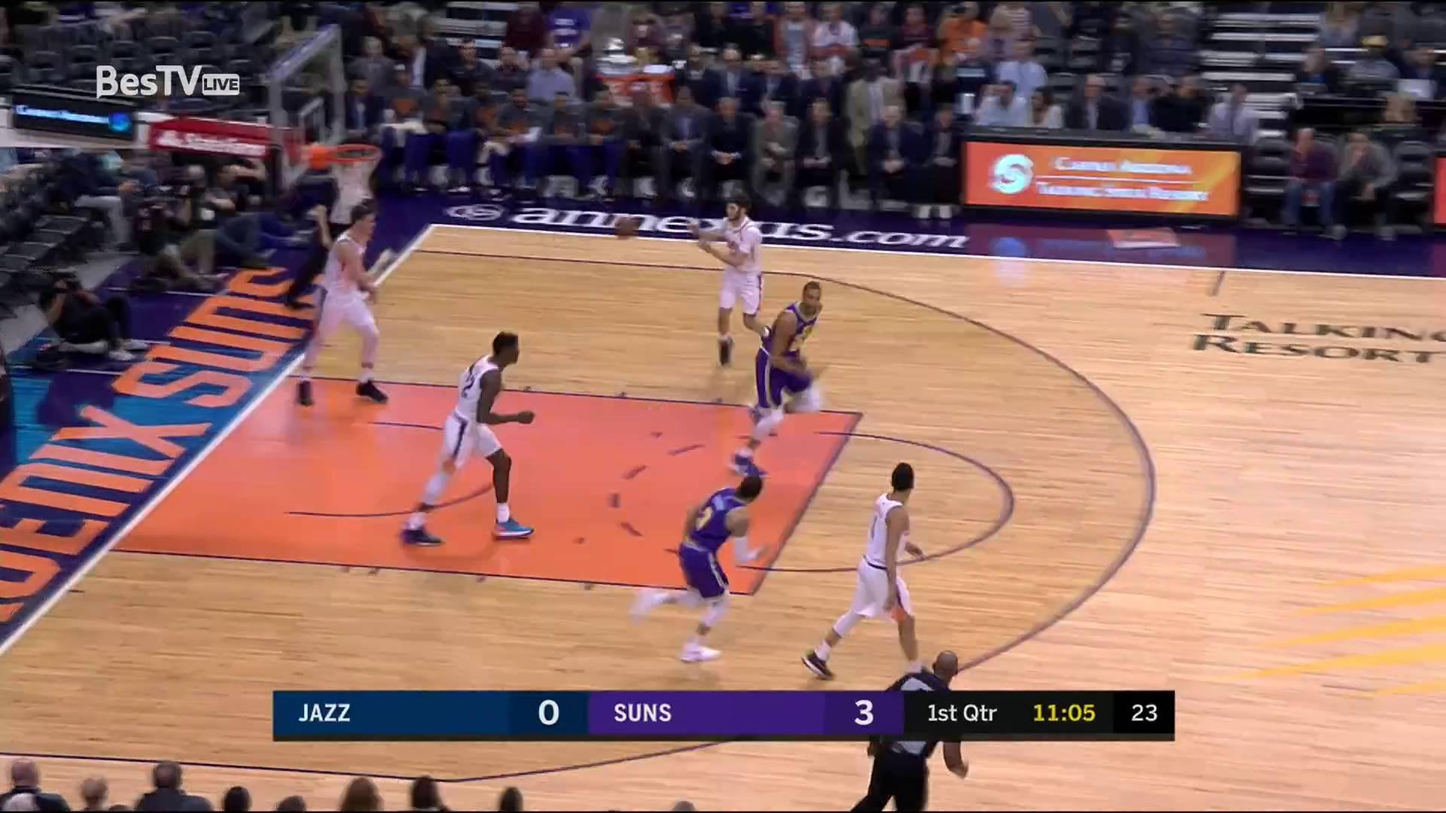basketball: (611, 217, 638, 242)
